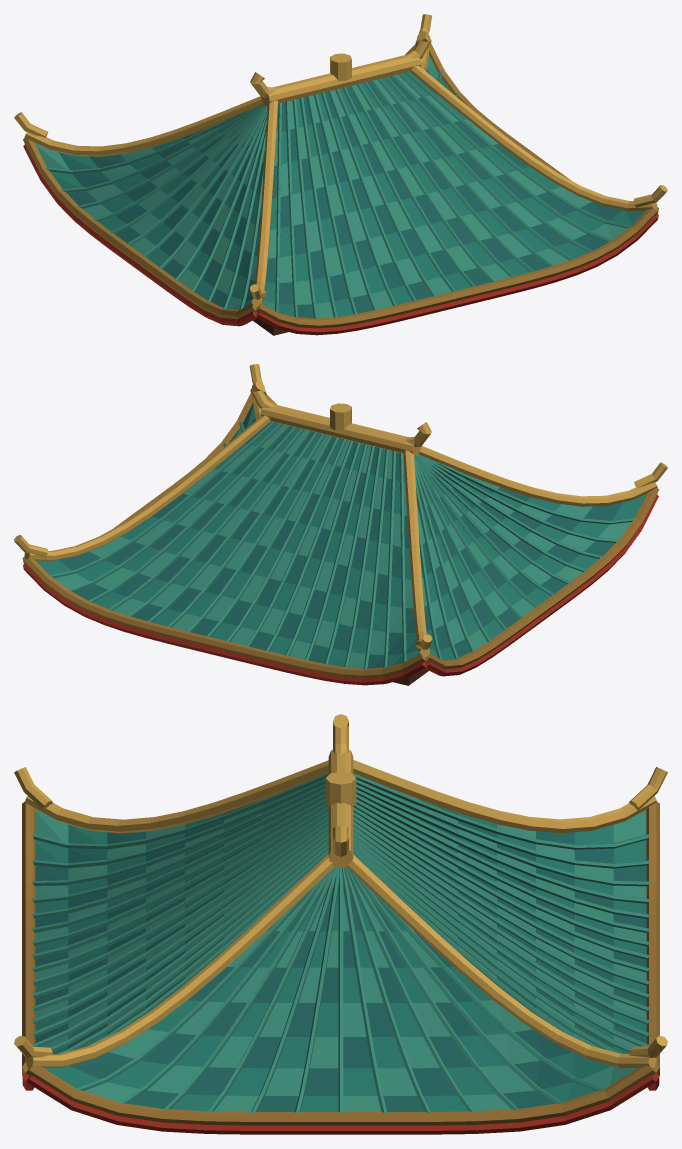
Rendered from jiangting_roof.glb.
3 renders of one model, top to bottom at view 1: azimuth 30°, elevation 25°; view 2: azimuth 150°, elevation 25°; view 3: azimuth 270°, elevation 25°, orthographic. The views are drawn at different scales.
Parts seen in each view (by area): view 1: jiangting_roof; view 2: jiangting_roof; view 3: jiangting_roof.
Part boxes in pixels (x1,y1,x2,y2): jiangting_roof: (14, 14, 667, 335); jiangting_roof: (14, 364, 667, 685); jiangting_roof: (14, 714, 667, 1134).
Bounding box in the file's own units: 7 × 3 × 7.
